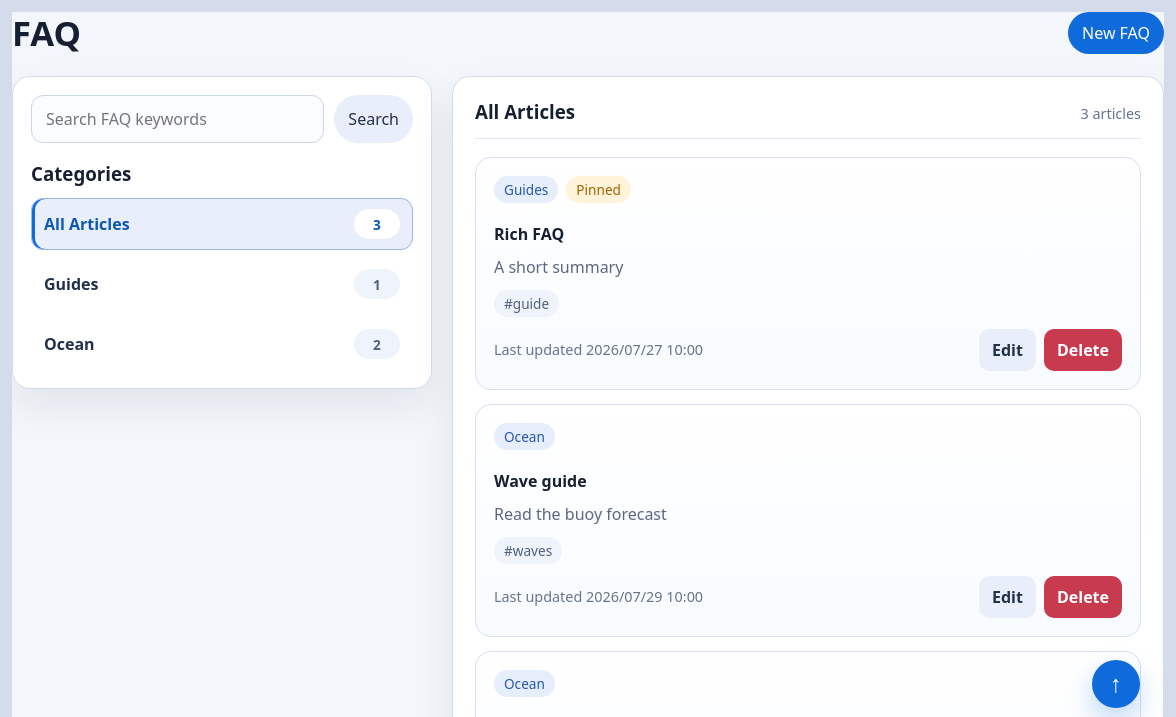
Test: FaqPage category browsing › filters by category and clears an active search
expect the button "Ocean 2" is shown: met, box [31,318,413,370]
Type "guide" into the search field with placeholder "Search FAQ keywords". click: coordinates (178, 119)
box: [31,95,324,143]
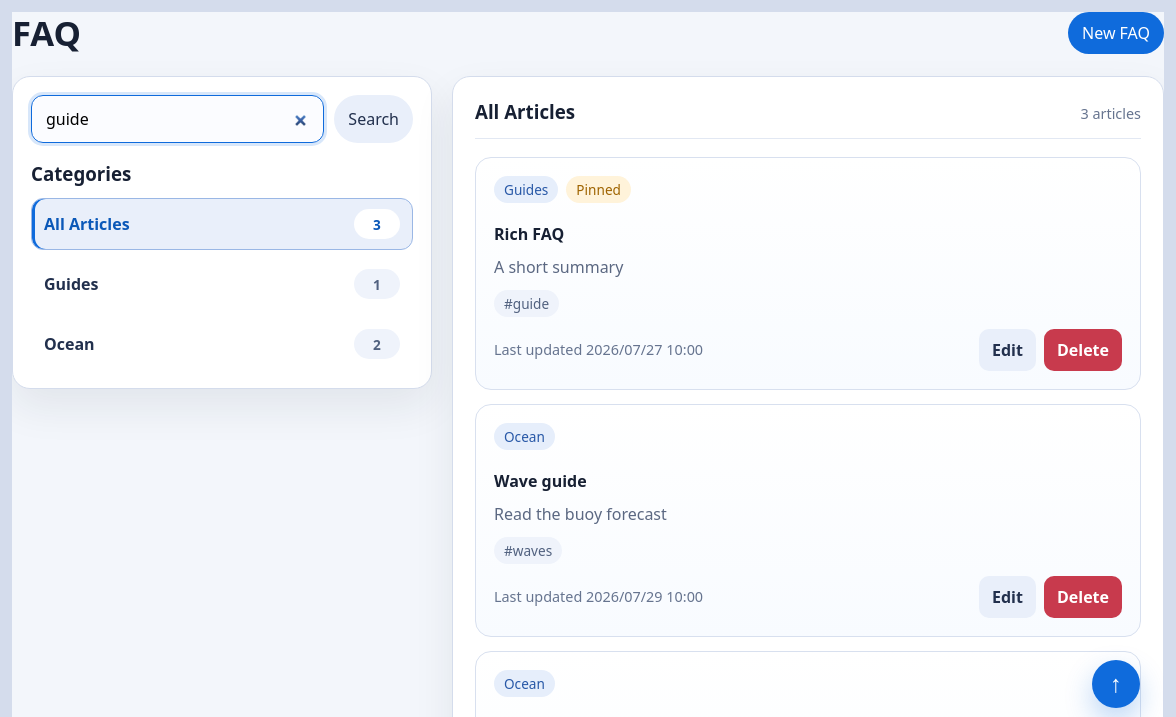
Click the button "Search". click: coordinates (374, 119)
box: [334,95,413,143]
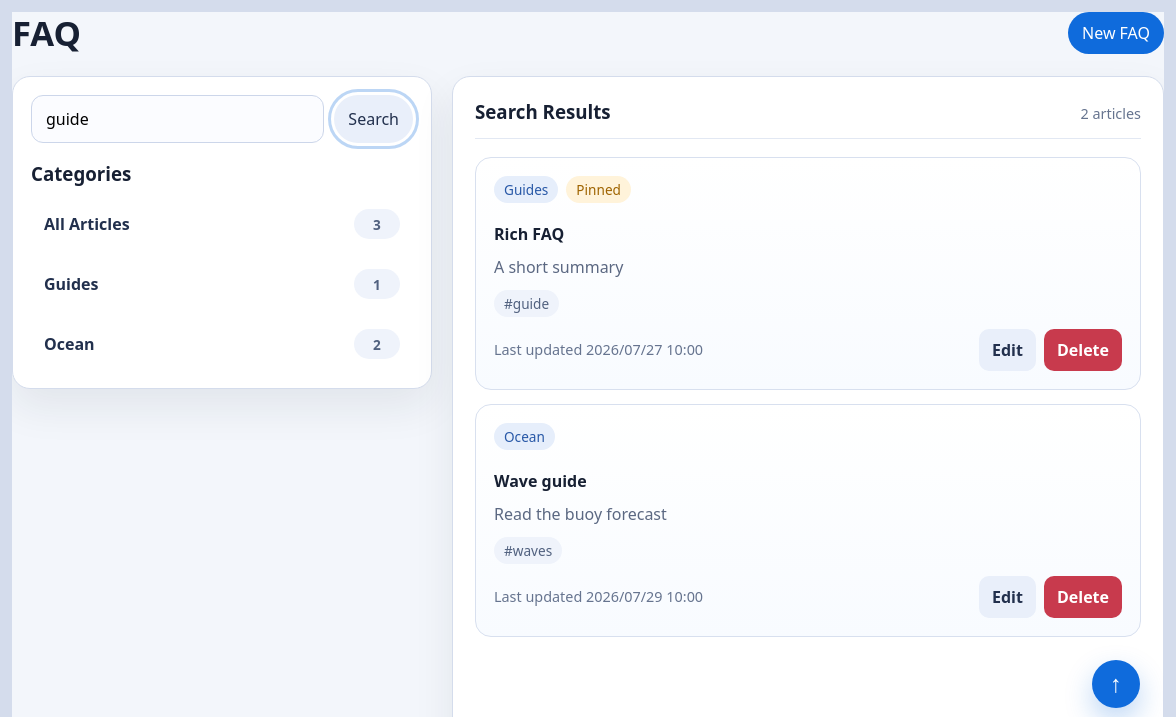
expect the heading "Search Results" is shown: met, box [475,99,611,124]
Click the button "Ocean 2". click: coordinates (69, 344)
box: [31,318,413,370]
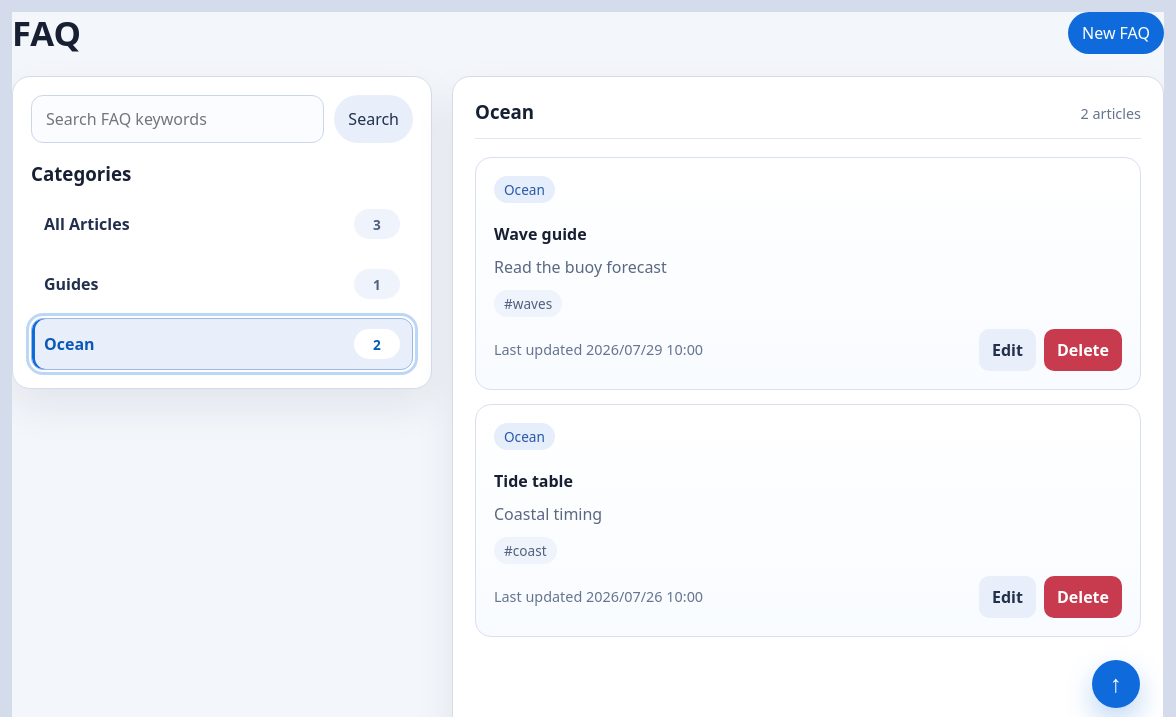
expect the text "2 articles" is shown: met, box [1080,104,1141,123]
expect the heading "Ocean" is shown: met, box [475,99,534,124]
expect the search field with placeholder "Search FAQ keywords" is empty: met, box [31,95,324,143]
